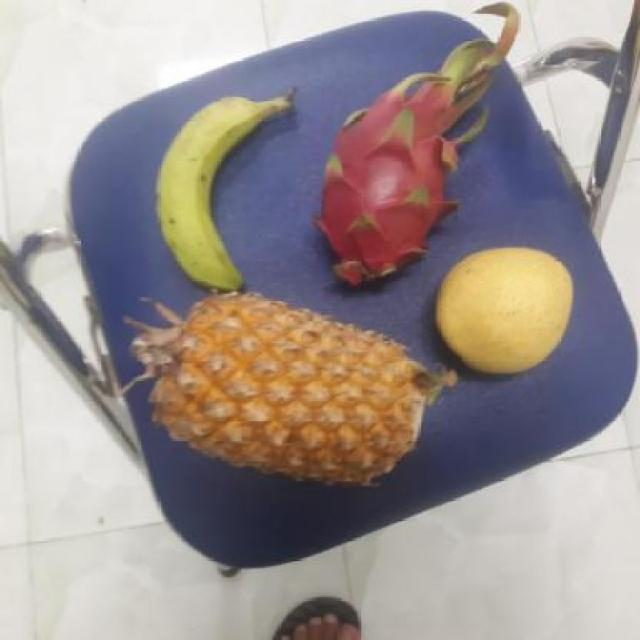banana: (149, 92, 289, 286)
dragon fruit: (307, 95, 465, 286)
pear: (427, 248, 575, 374)
pineapple: (131, 284, 438, 478)
